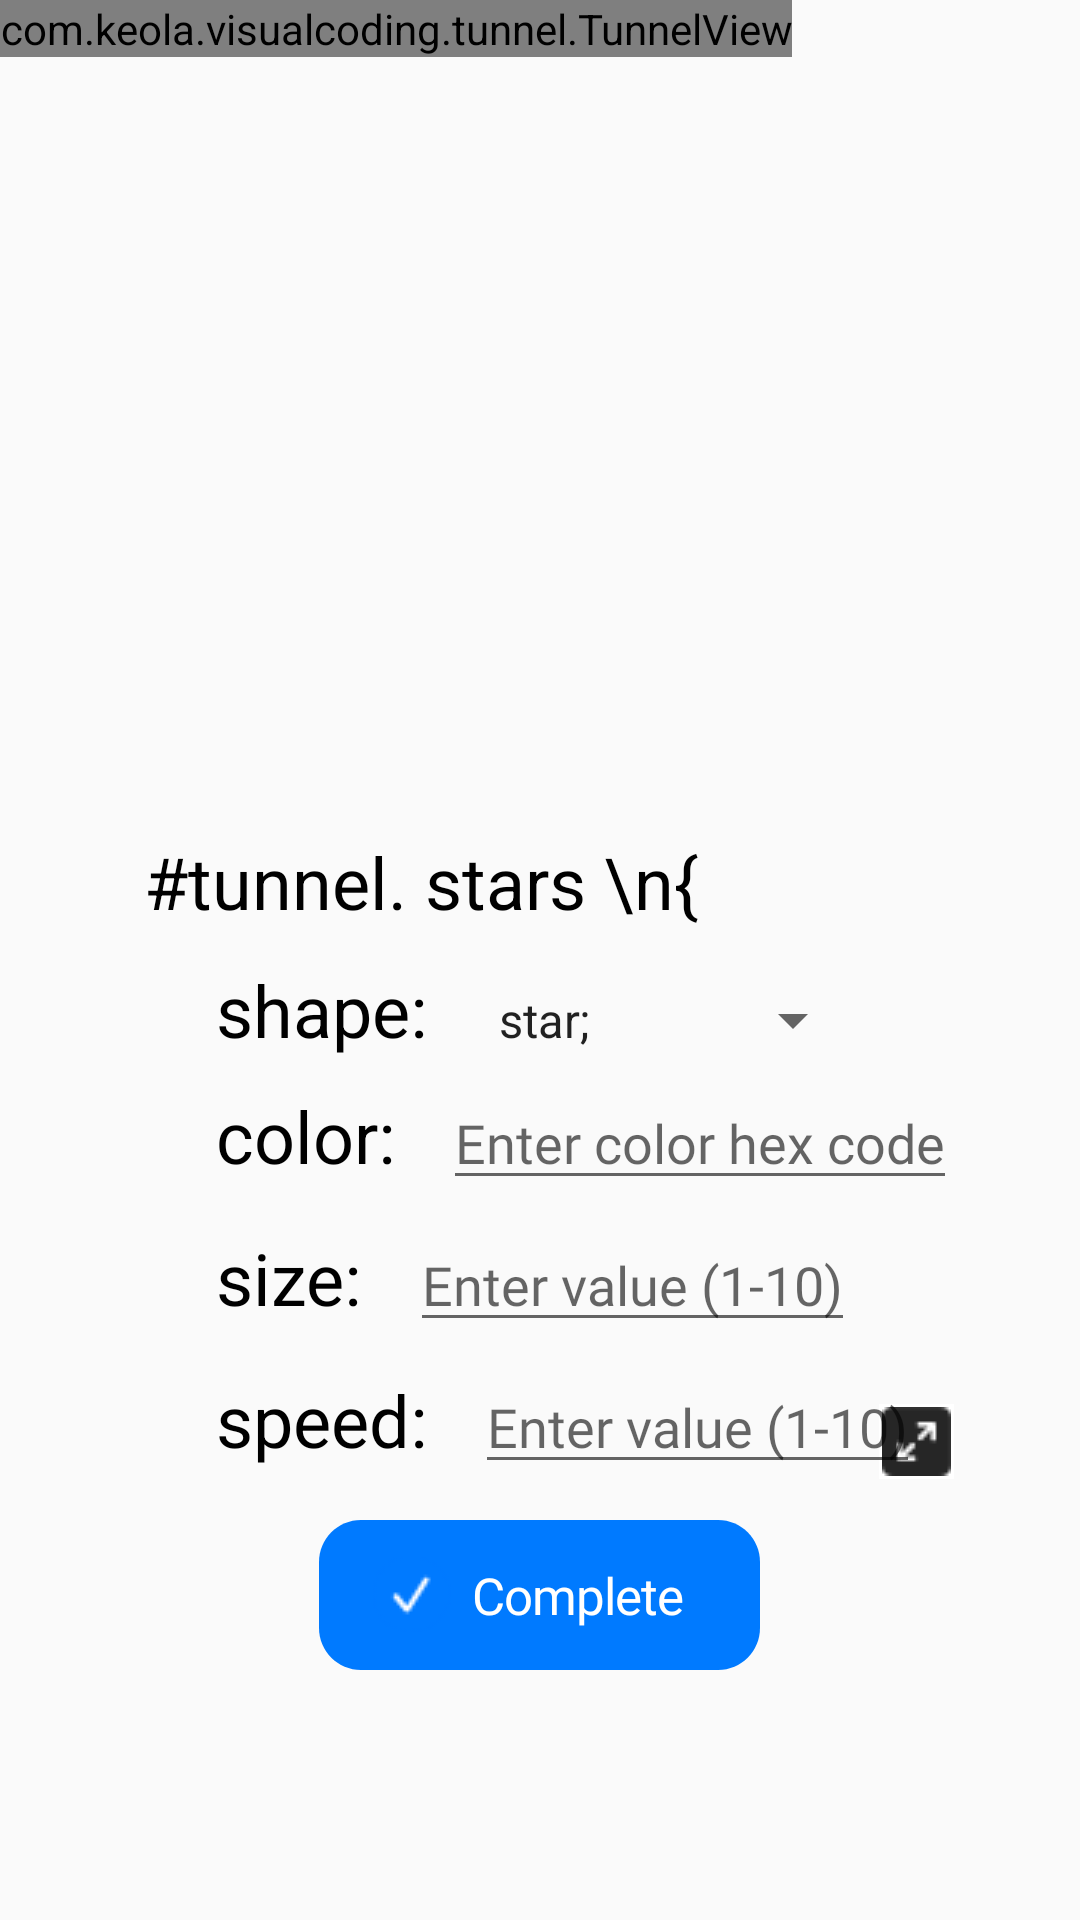

Icon bounding boxes for this 1080 × 1920 phone screenshot, format [left=x1, top=y1, right=x2, bottom=y2]:
fullscreen: [left=879, top=1405, right=951, bottom=1476]
